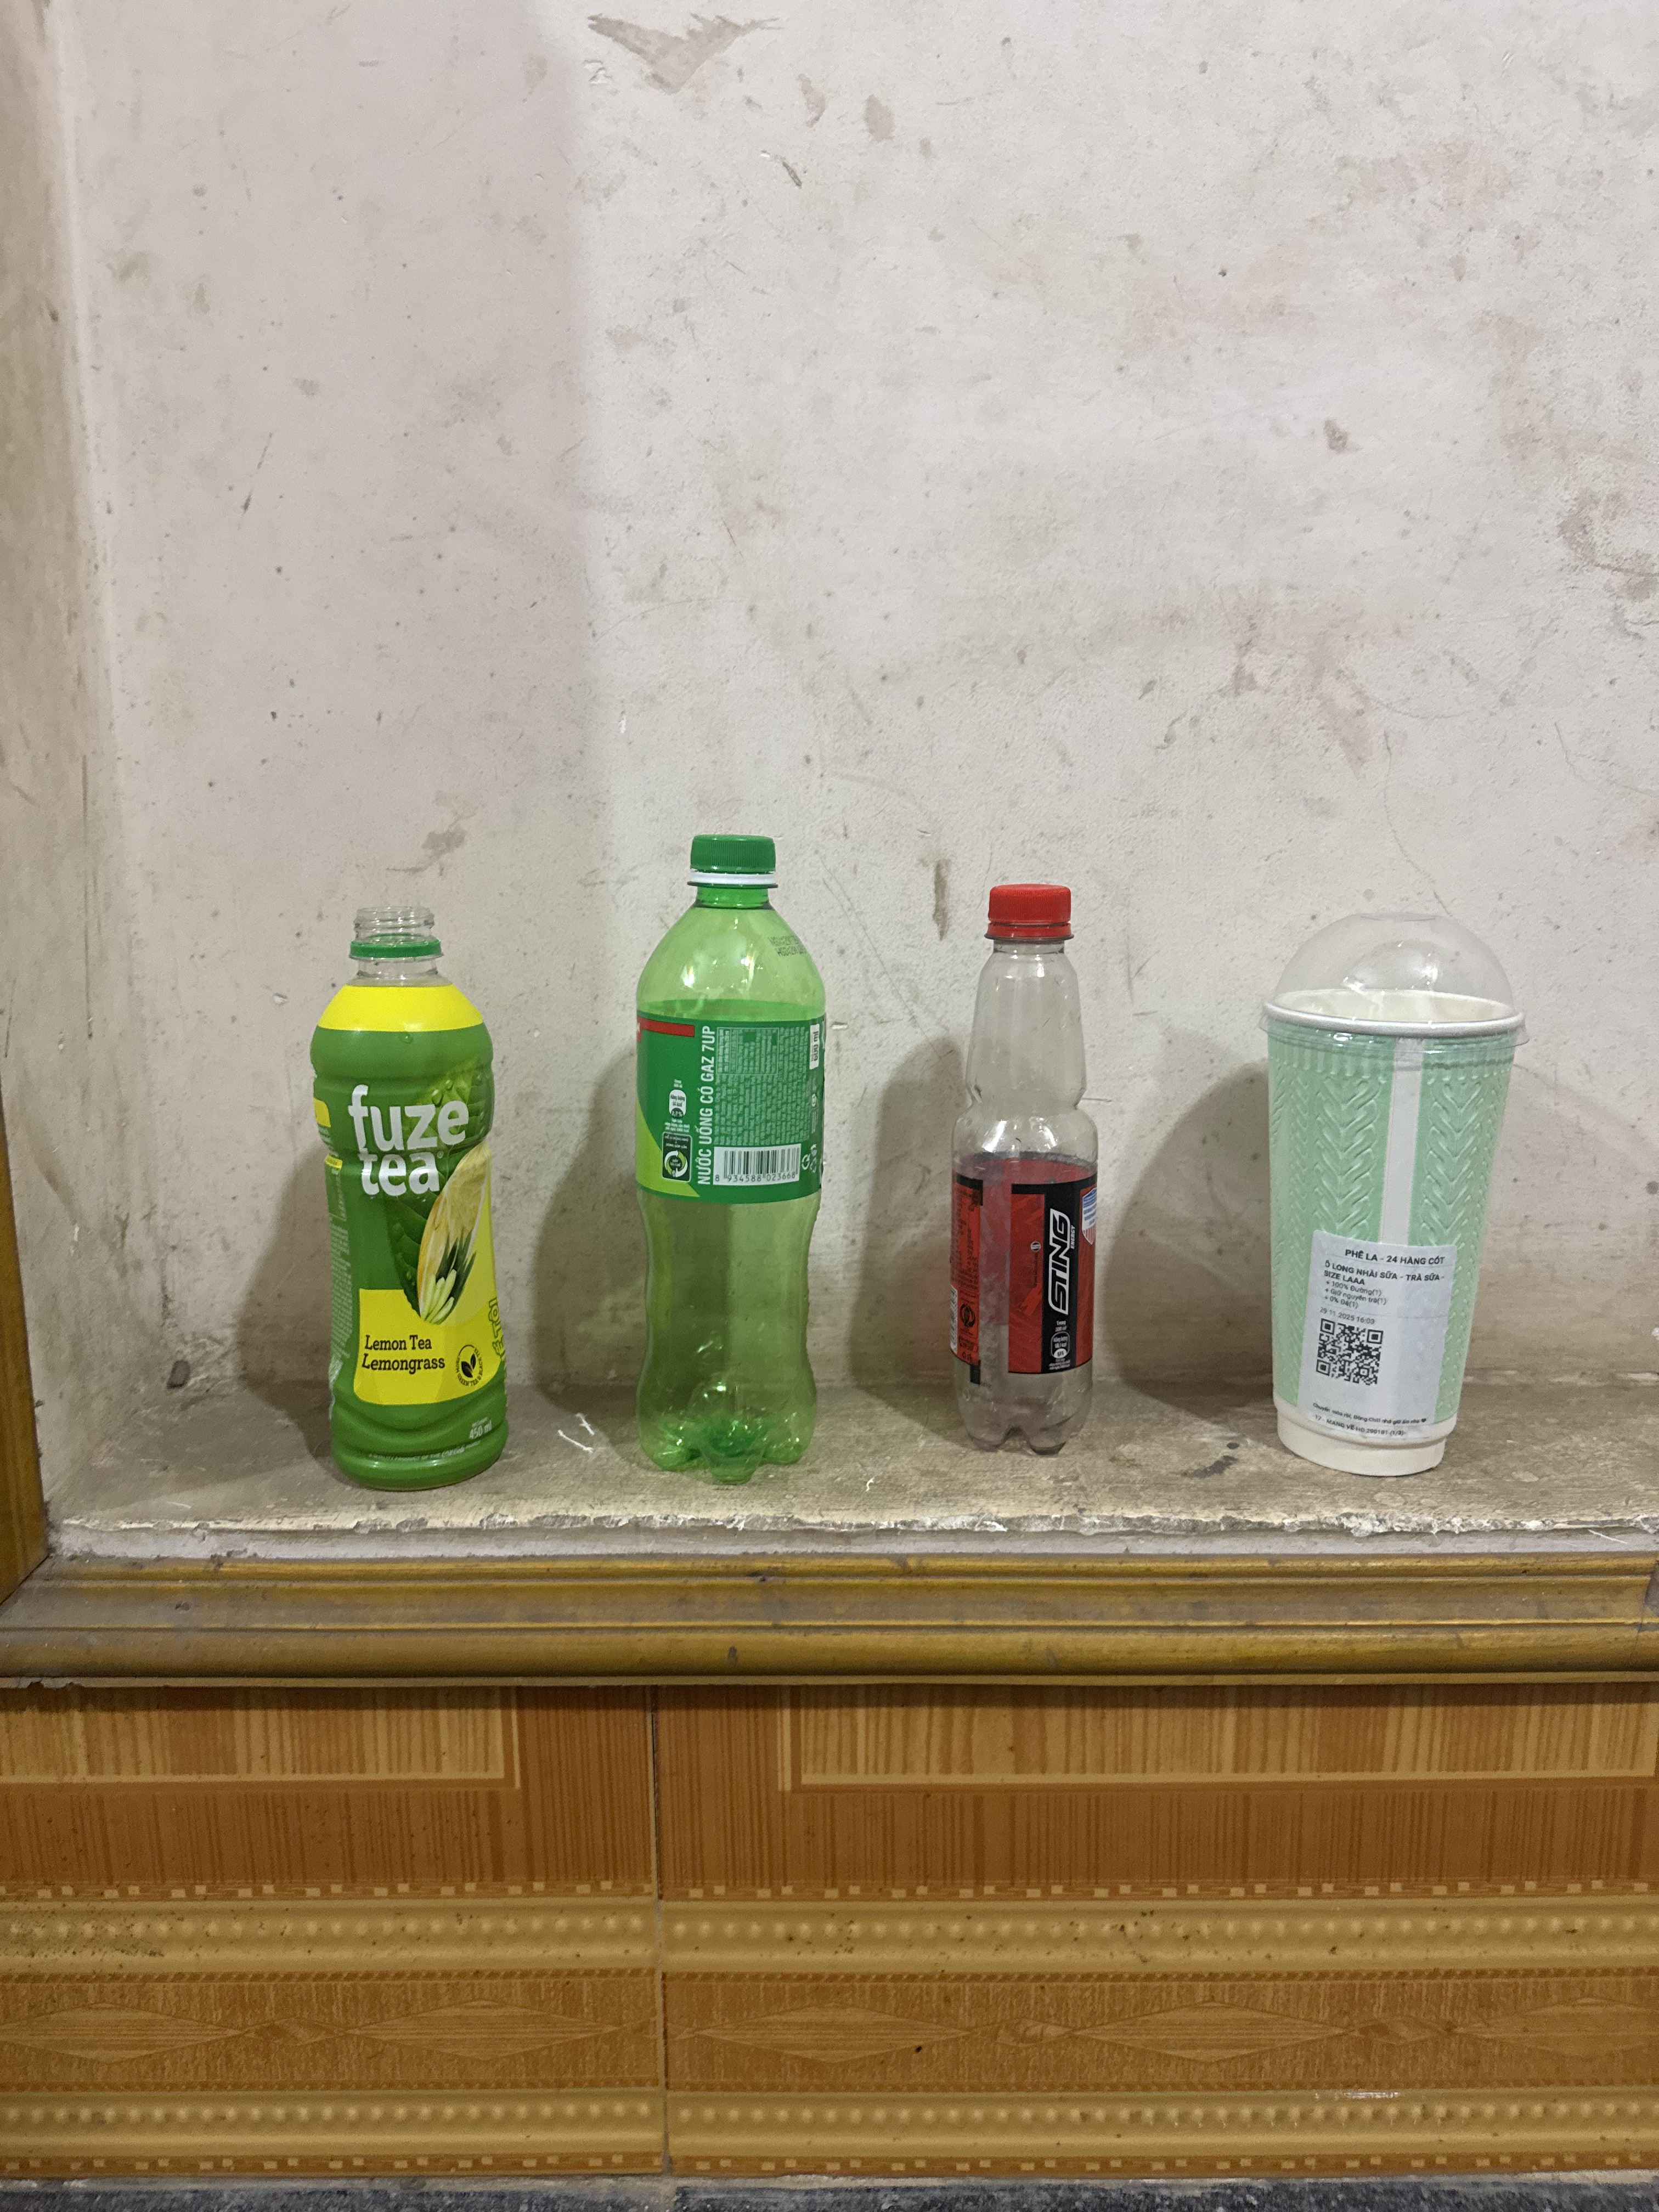2: (1246, 880, 1577, 1494)
bottle: (594, 805, 875, 1505), (279, 883, 545, 1522), (918, 862, 1162, 1489)
